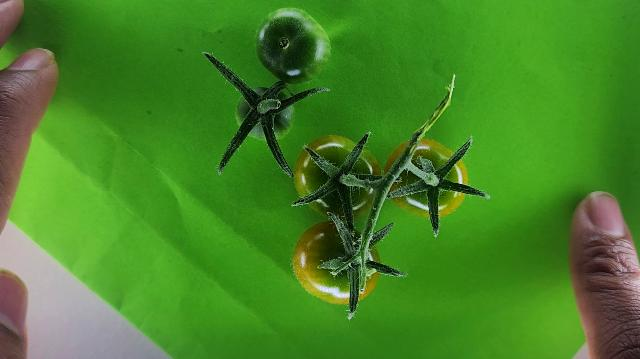Fruit Maturation: (254, 7, 332, 86), (235, 84, 297, 142)
Fully Grown: (292, 220, 382, 305), (294, 135, 380, 221), (385, 138, 471, 219)
